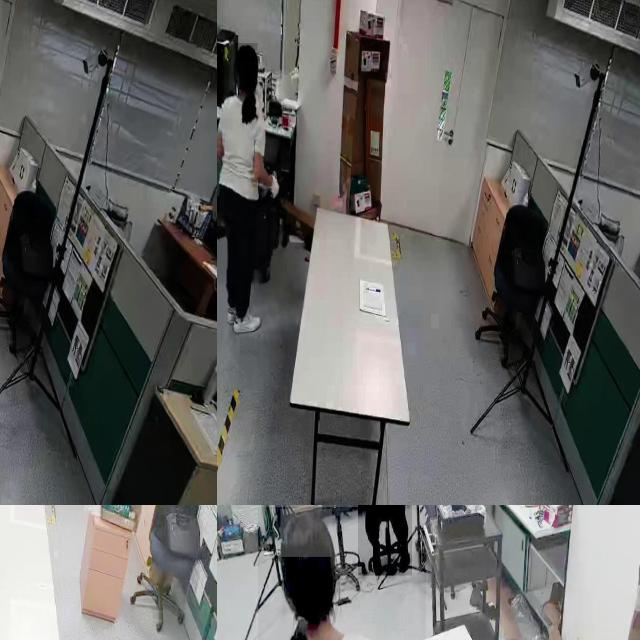hand_glove: (268, 171, 282, 206)
head_nohelmet: (280, 509, 332, 558), (236, 43, 258, 63)
person: (257, 507, 426, 640), (217, 40, 281, 348), (358, 505, 412, 575)
shoes: (230, 304, 264, 338), (224, 288, 244, 328), (394, 539, 413, 575), (368, 540, 383, 582)
